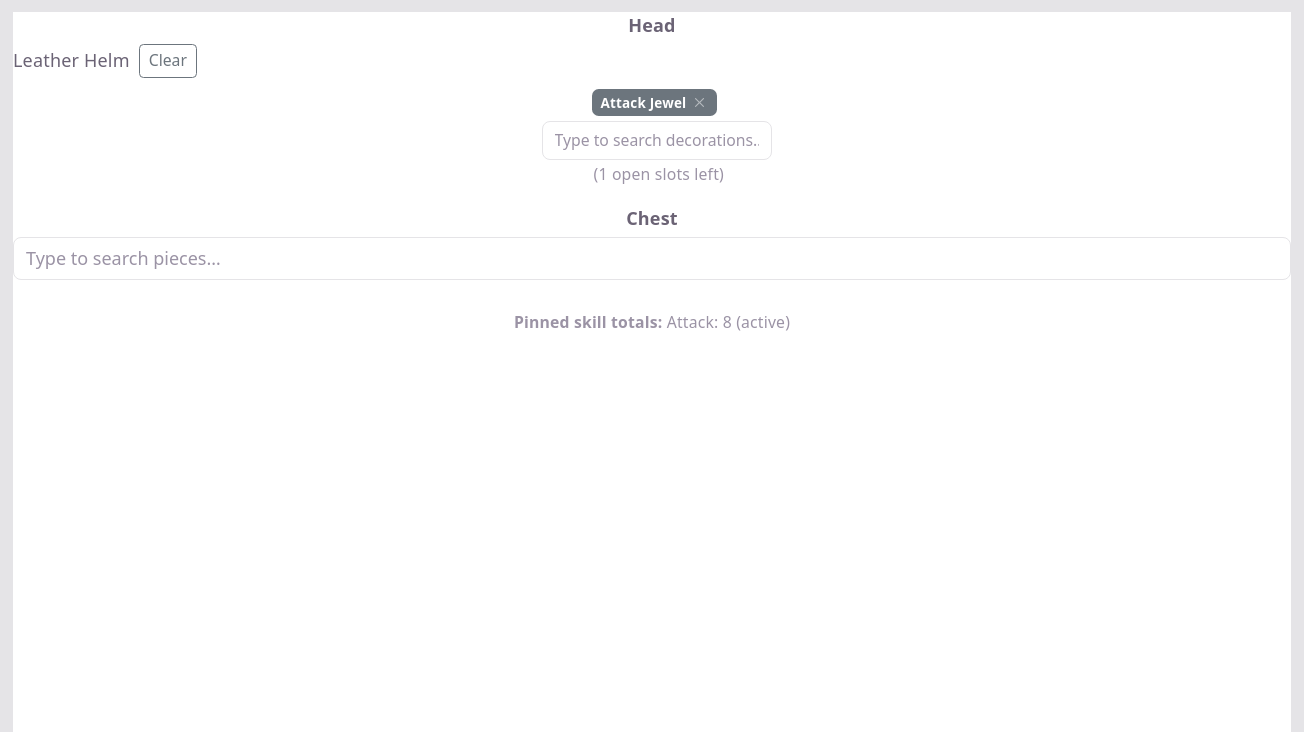
Test: ArmorPicker › only offers decorations that fit the remaining open-slot capacity
Type "defense" into the field named "Search decorations for head" at (656, 141), box [542,121,772,160]
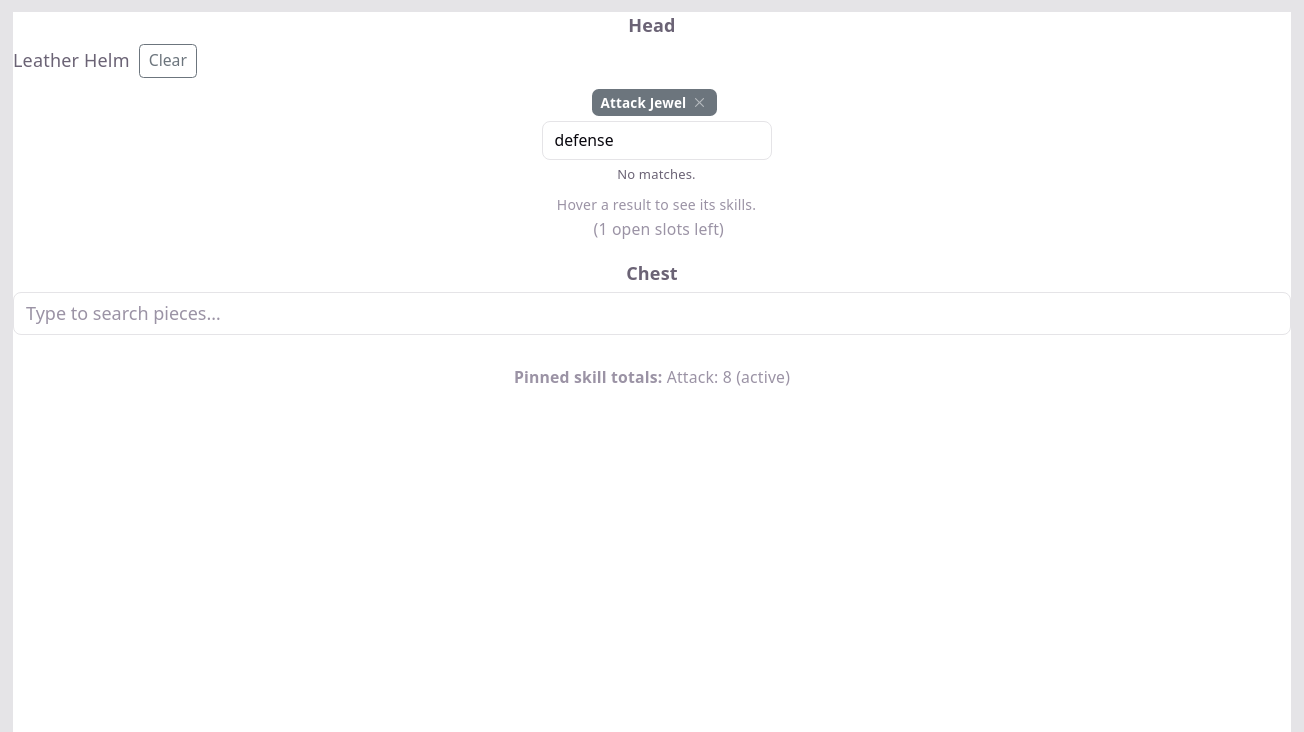
expect the text "No matches." is shown: met, box [617,165,696,183]
